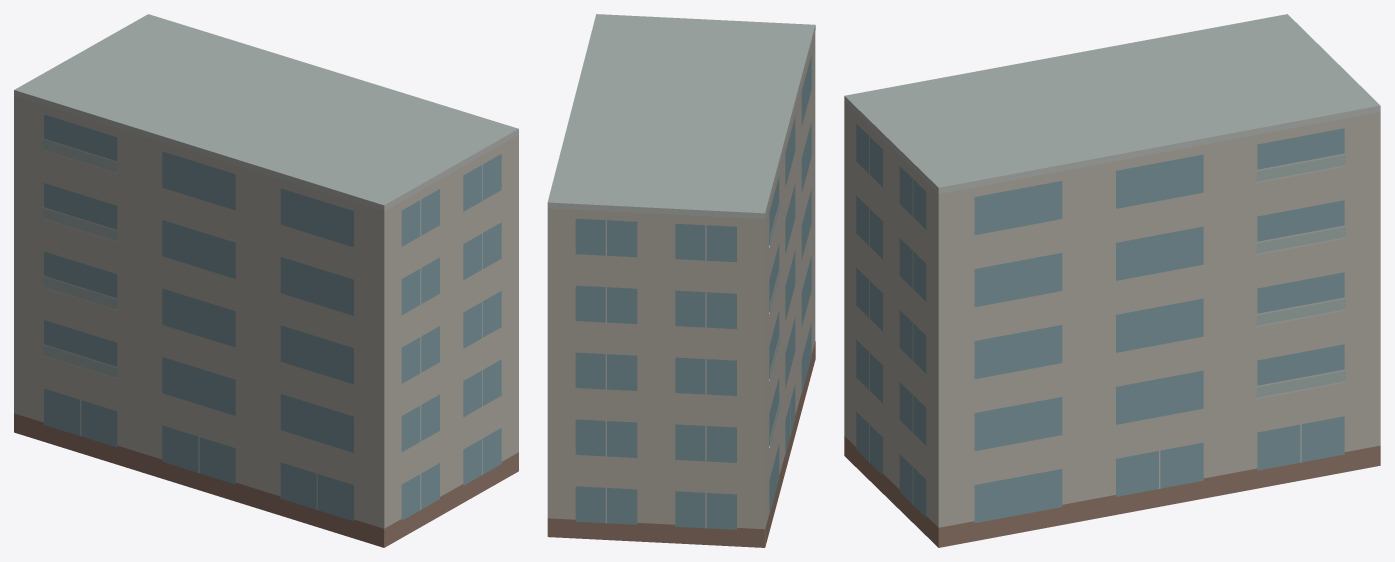
Rendered from survey-upis-32855533.glb.
The picture shows the model from 3 angles, left to right: view 1: azimuth 30°, elevation 25°; view 2: azimuth 150°, elevation 25°; view 3: azimuth 270°, elevation 25°; orthographic projection. The views are drawn at different scales.
Visible parts, largest first — view 1: survey-upis-32855533.tmp; view 2: survey-upis-32855533.tmp; view 3: survey-upis-32855533.tmp.
Boxes of the visible parts, x1=… form: survey-upis-32855533.tmp: x1=14, y1=14, x2=518, y2=547; survey-upis-32855533.tmp: x1=547, y1=14, x2=815, y2=547; survey-upis-32855533.tmp: x1=844, y1=14, x2=1380, y2=547.
Bounding box in the file's own units: 14.55 × 14.05 × 18.97.
